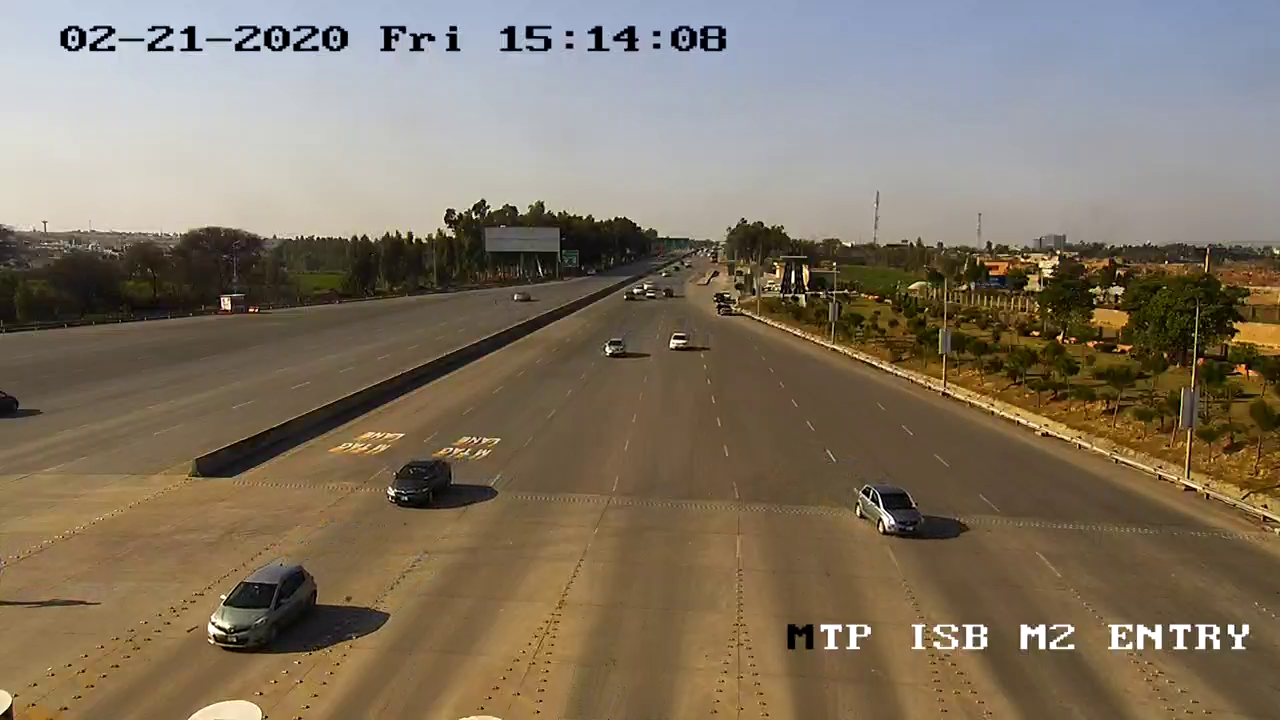f1: (195, 552, 331, 659), (850, 478, 936, 546), (383, 451, 461, 518)
